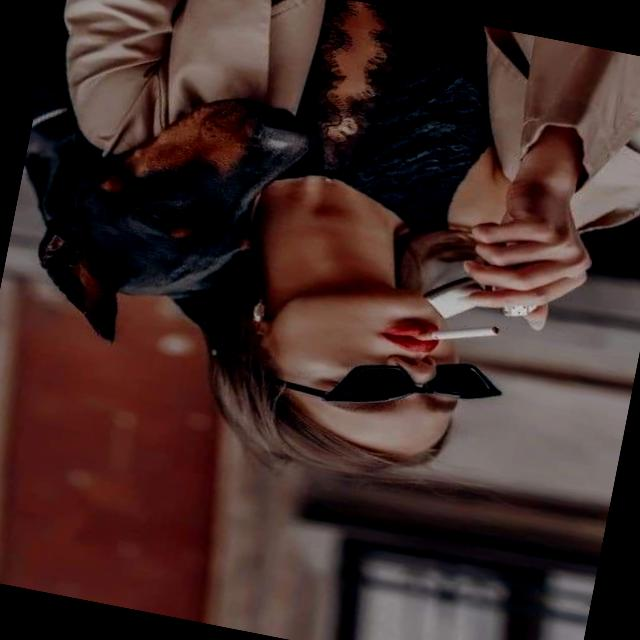smoke: (386, 300, 530, 364)
